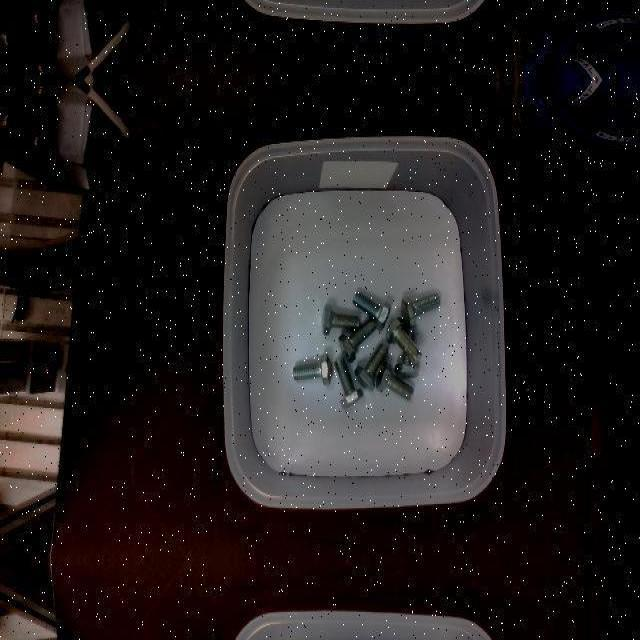screw: (386, 317, 423, 363), (337, 318, 375, 362), (354, 342, 388, 390), (353, 291, 392, 331), (333, 357, 363, 409), (376, 362, 414, 402), (400, 291, 440, 325), (293, 352, 332, 384), (322, 303, 361, 333)
